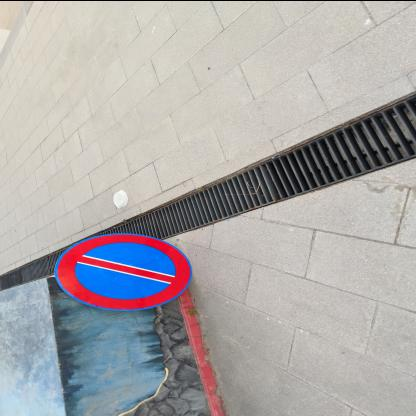No Waiting: (56, 233, 194, 311)
